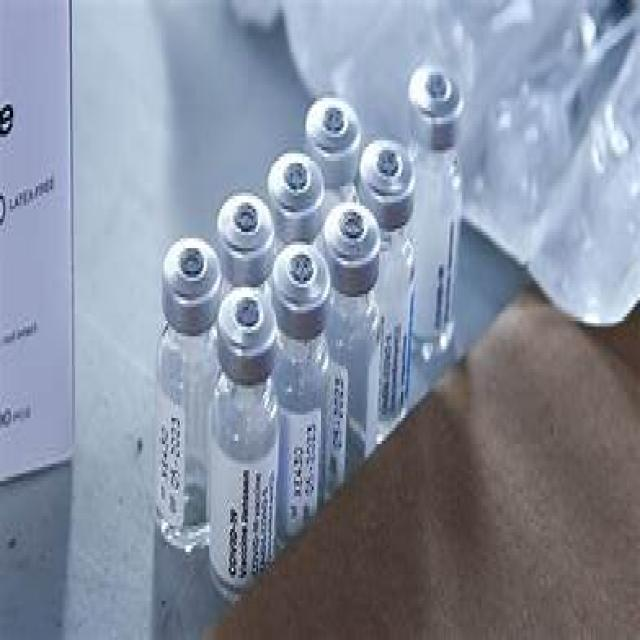vial: (208, 287, 277, 366), (357, 136, 420, 215), (300, 94, 362, 168), (322, 198, 382, 273), (409, 58, 466, 136), (260, 155, 330, 218), (272, 241, 328, 311), (162, 232, 218, 301), (212, 194, 278, 251)
